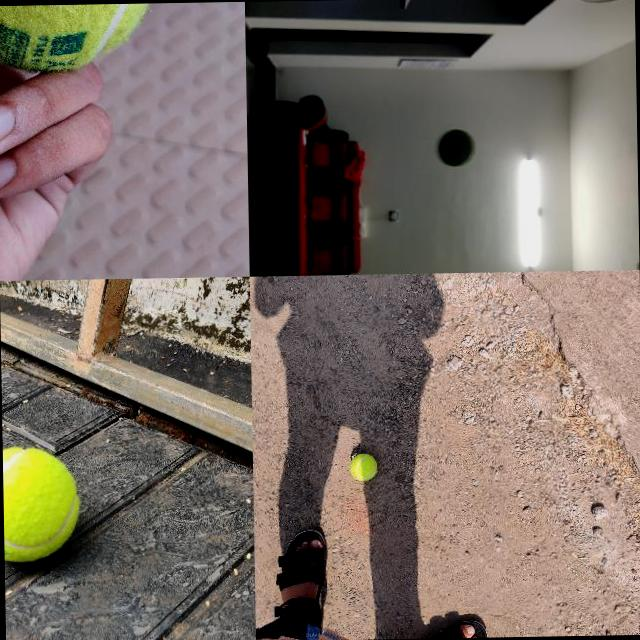Tennis Ball: (0, 2, 163, 74), (3, 444, 82, 562), (436, 128, 476, 167), (349, 454, 376, 481)
